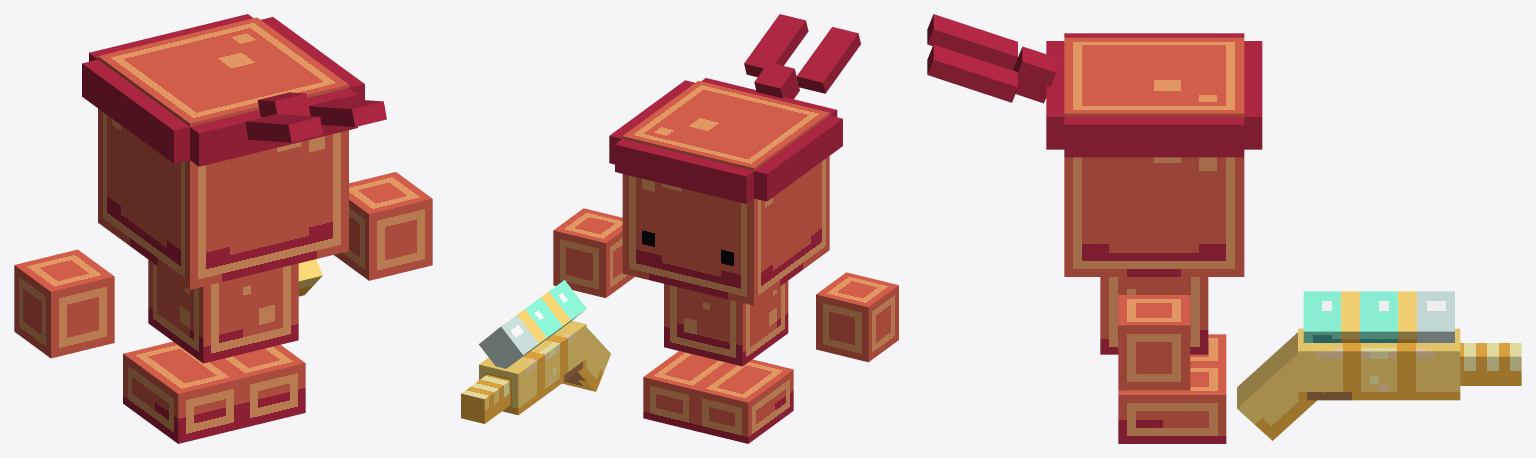
File: Gun_2.gltf
3 views of the same model, side by side, from view 1: azimuth 30°, elevation 25°; view 2: azimuth 150°, elevation 25°; view 3: azimuth 270°, elevation 25° (orthographic). The views are drawn at different scales.
Parts seen in each view (by area): view 1: cube (×14); view 2: cube (×17); view 3: cube (×16).
Part boxes in pixels (box(x1,y1,x2,y2)): cube (×14): box(14, 14, 432, 443); cube (×17): box(461, 14, 898, 443); cube (×16): box(927, 14, 1521, 443).
Size of the model in its own units: 1.5 by 1.44 by 2.06.
4 materials, 4 textured.
